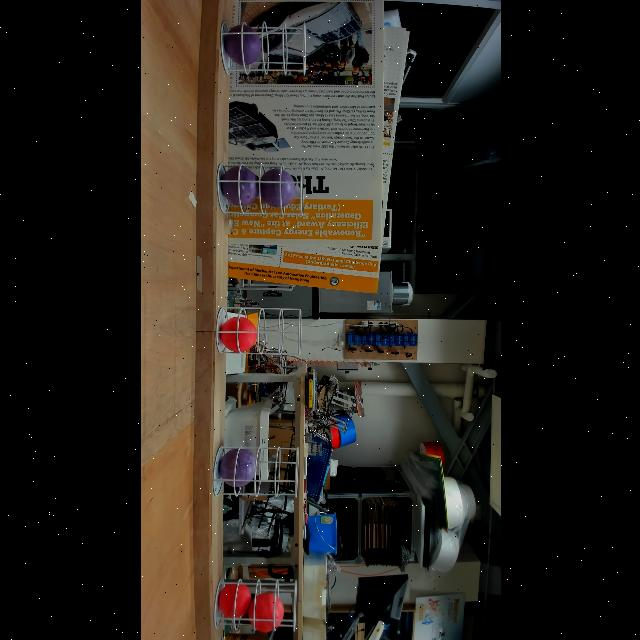P: (222, 24, 260, 66), (217, 448, 256, 488), (220, 166, 258, 206), (257, 168, 295, 208)
R: (246, 591, 284, 633), (218, 317, 256, 353), (216, 582, 250, 620)
S: (218, 20, 306, 76), (210, 444, 298, 498), (214, 163, 302, 215), (212, 578, 296, 632), (214, 306, 300, 356)
